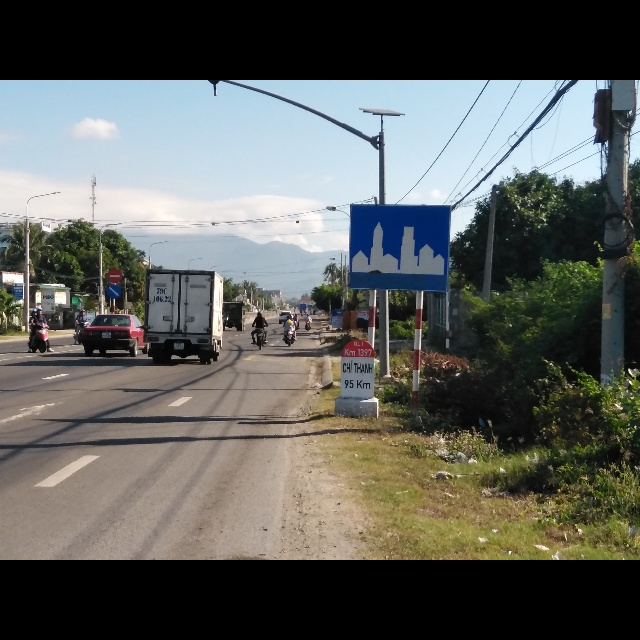Khu đông dân cư: (346, 201, 450, 288)
